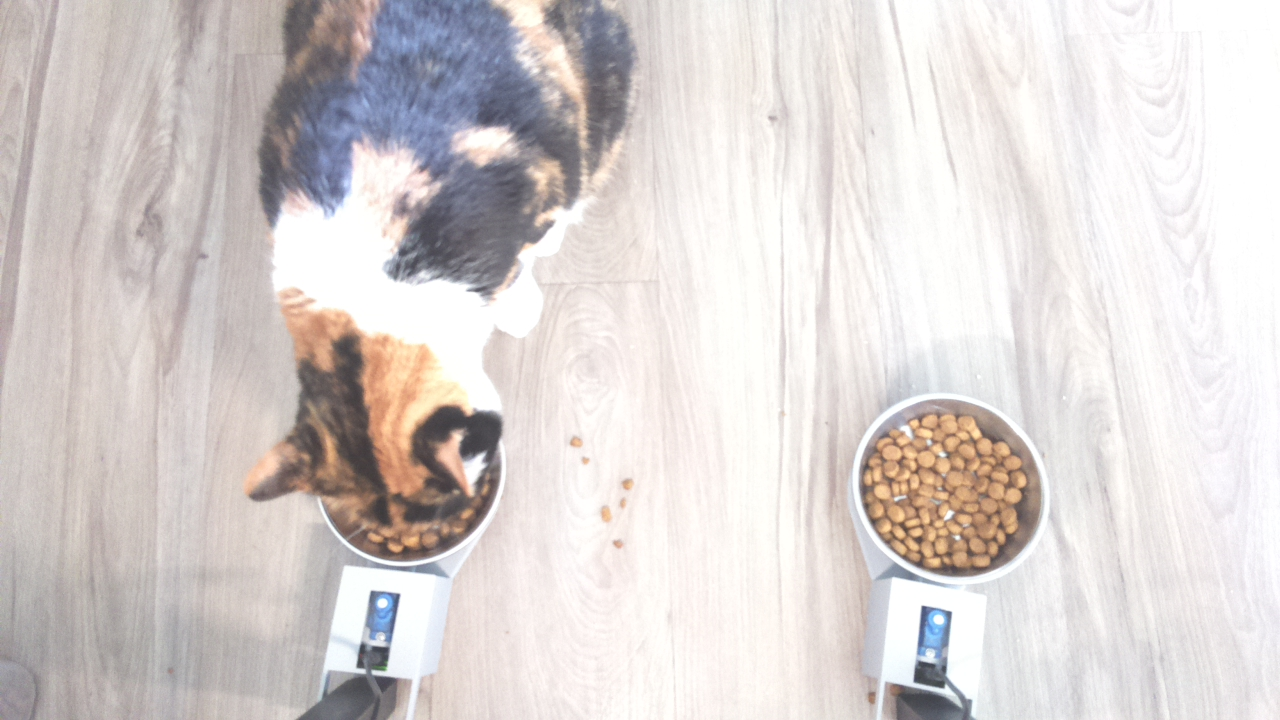bella_eating: (237, 240, 534, 578)
open_bowl: (848, 389, 1052, 591)
